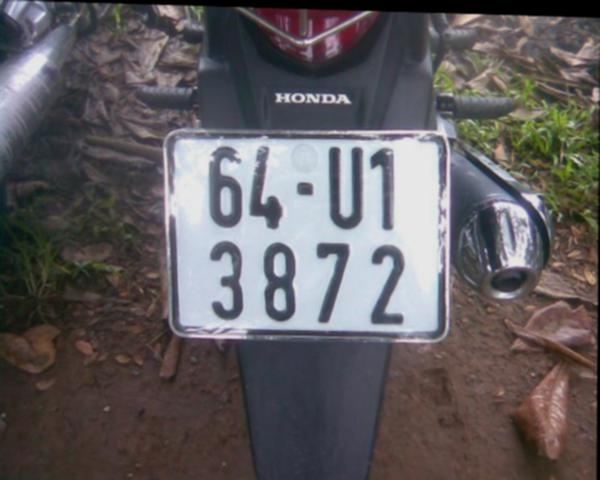License_Plate: (157, 124, 451, 344)
